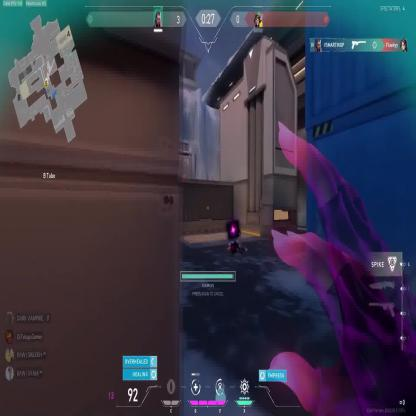enemy: (181, 173, 188, 191)
enemy_head: (183, 174, 186, 179)
